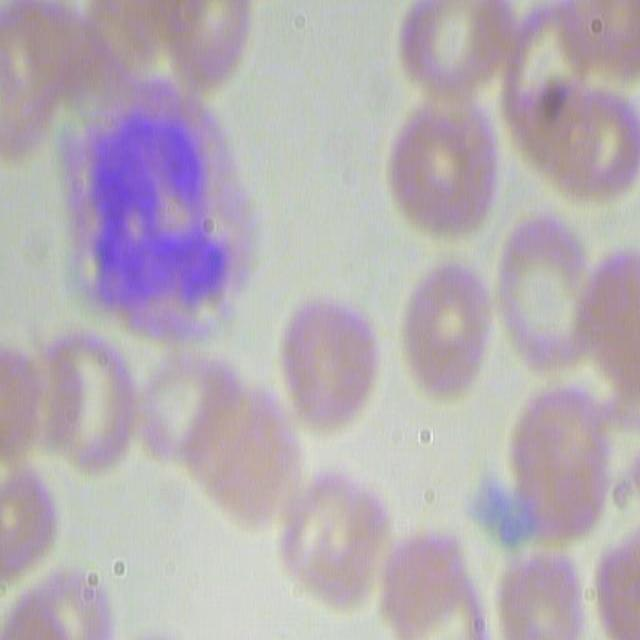RBC: (22, 317, 141, 480), (491, 200, 598, 378), (186, 378, 310, 526), (504, 382, 620, 536), (4, 0, 107, 169), (274, 468, 388, 615), (382, 94, 498, 237), (277, 286, 382, 441), (99, 0, 252, 105), (394, 236, 492, 393), (513, 88, 639, 206), (384, 518, 504, 640), (493, 1, 596, 141), (9, 536, 135, 640), (392, 2, 509, 113), (505, 534, 600, 640), (562, 0, 640, 97), (0, 466, 57, 590), (591, 525, 640, 636)
WBC: (71, 96, 268, 357)
